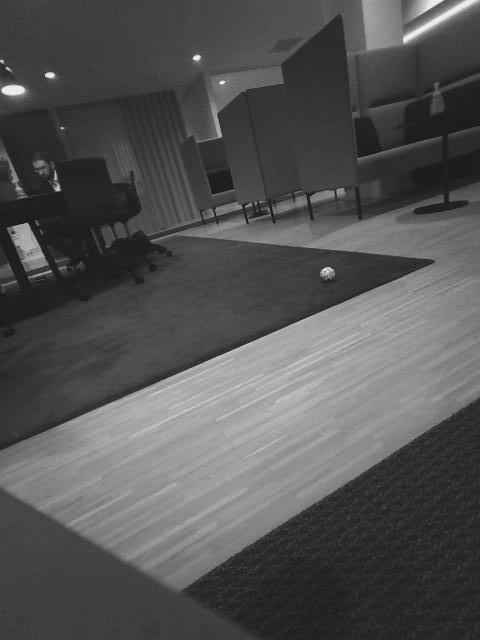dogtoy: (316, 262, 339, 286)
